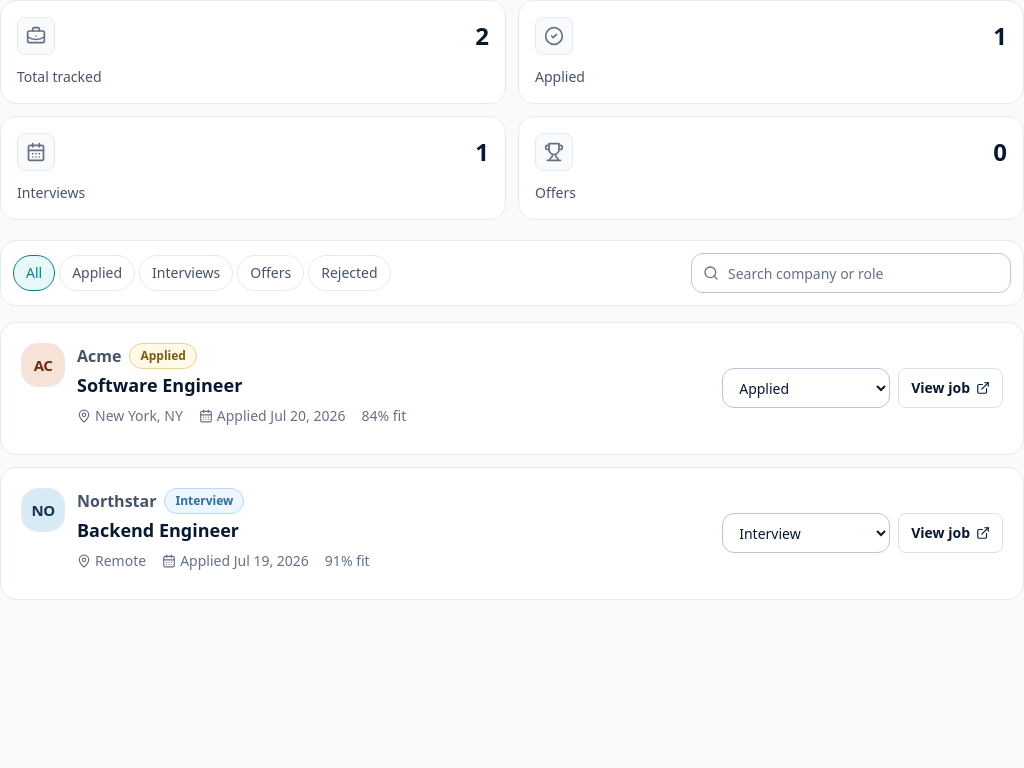
TrackerClient › filters applications by stage
Expected: the heading "Software Engineer" is shown, [77, 373, 242, 397]
Step 1. Click the button "Interviews" → (186, 273), box [139, 255, 233, 291]
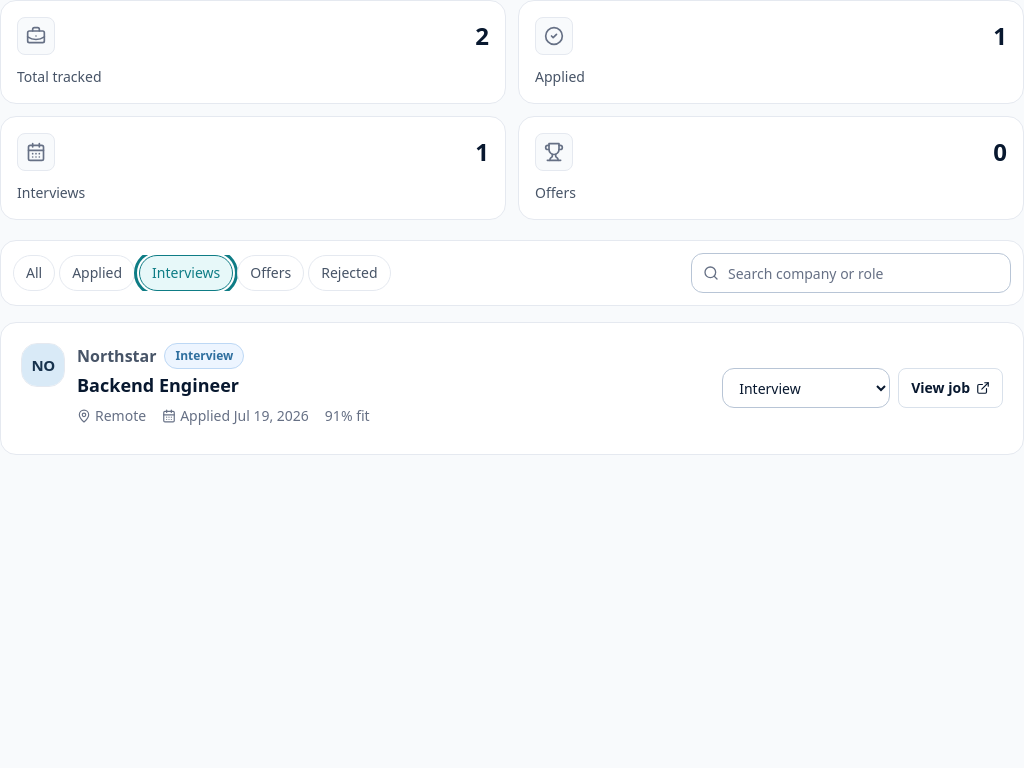
Expected: the heading "Backend Engineer" is shown, [77, 373, 239, 397]
Result: the heading "Software Engineer" is gone
